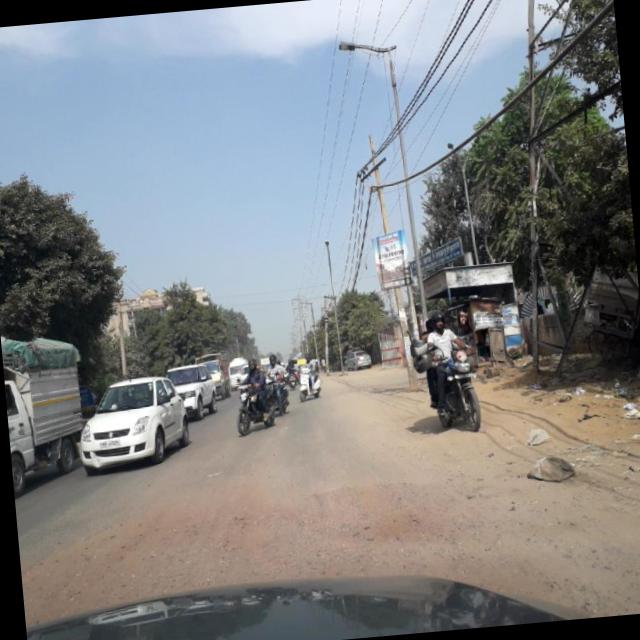pothole: (16, 478, 280, 601), (279, 463, 514, 578)
